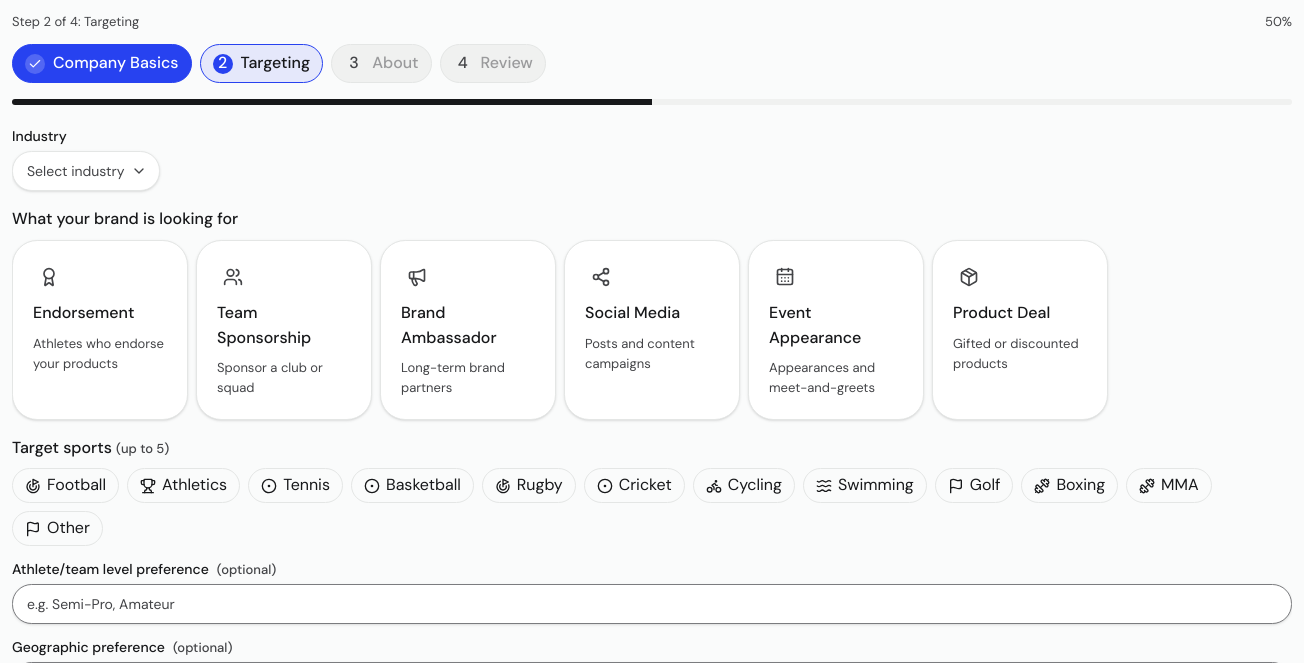
Test case: BrandProfileForm › step 2 limits target sports to 5 and errors on the 6th
This screenshot has width=1304, height=663.
Click the button "Football" at coordinates (66, 486), box [12, 468, 119, 503]
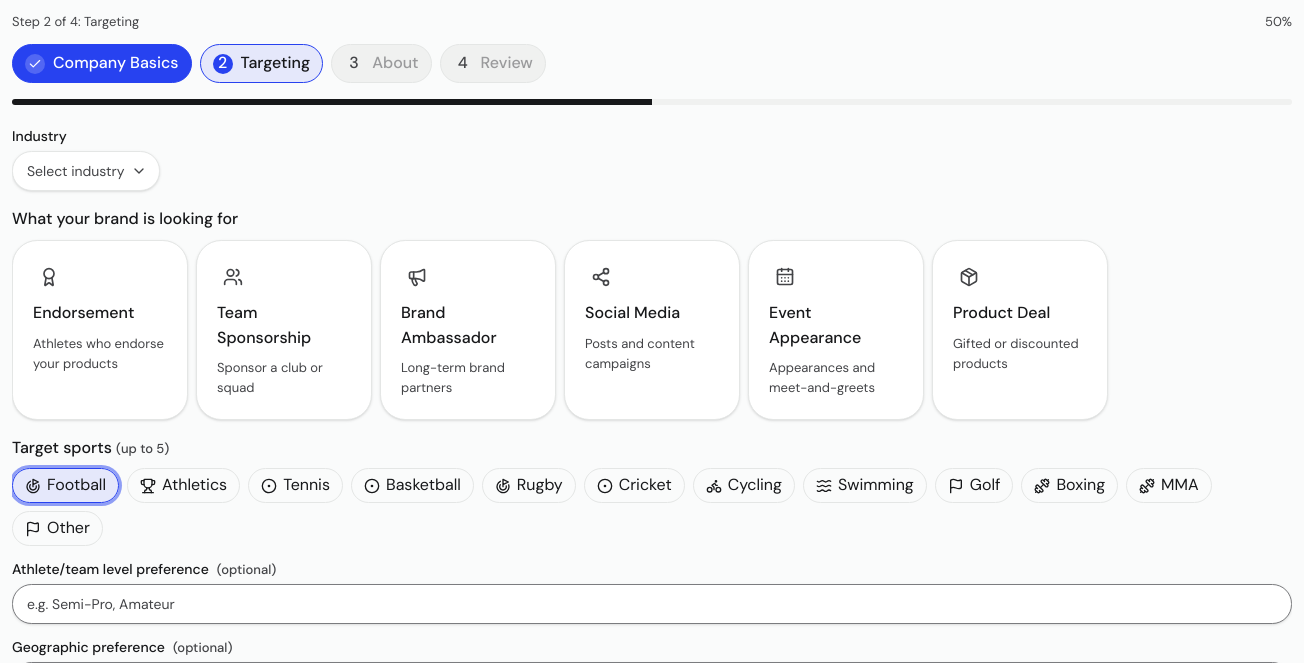
Click the button "Athletics" at coordinates (184, 486), box [127, 468, 240, 503]
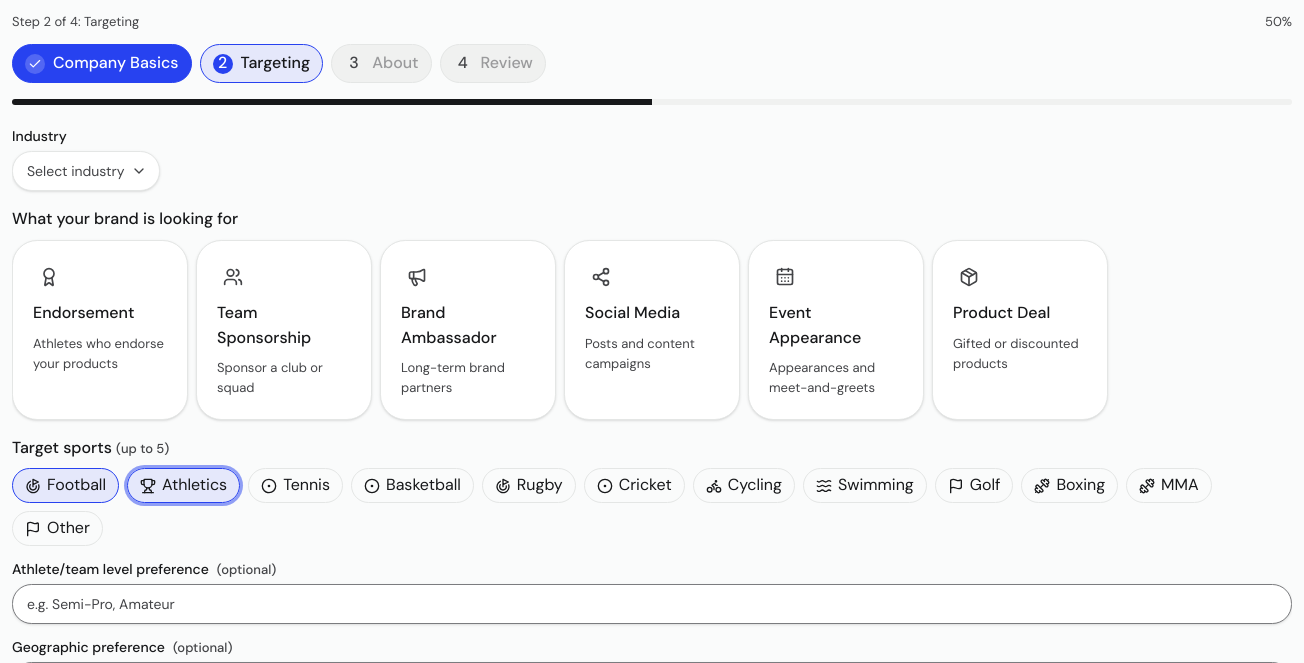
Click the button "Tennis" at coordinates (296, 486), box [248, 468, 343, 503]
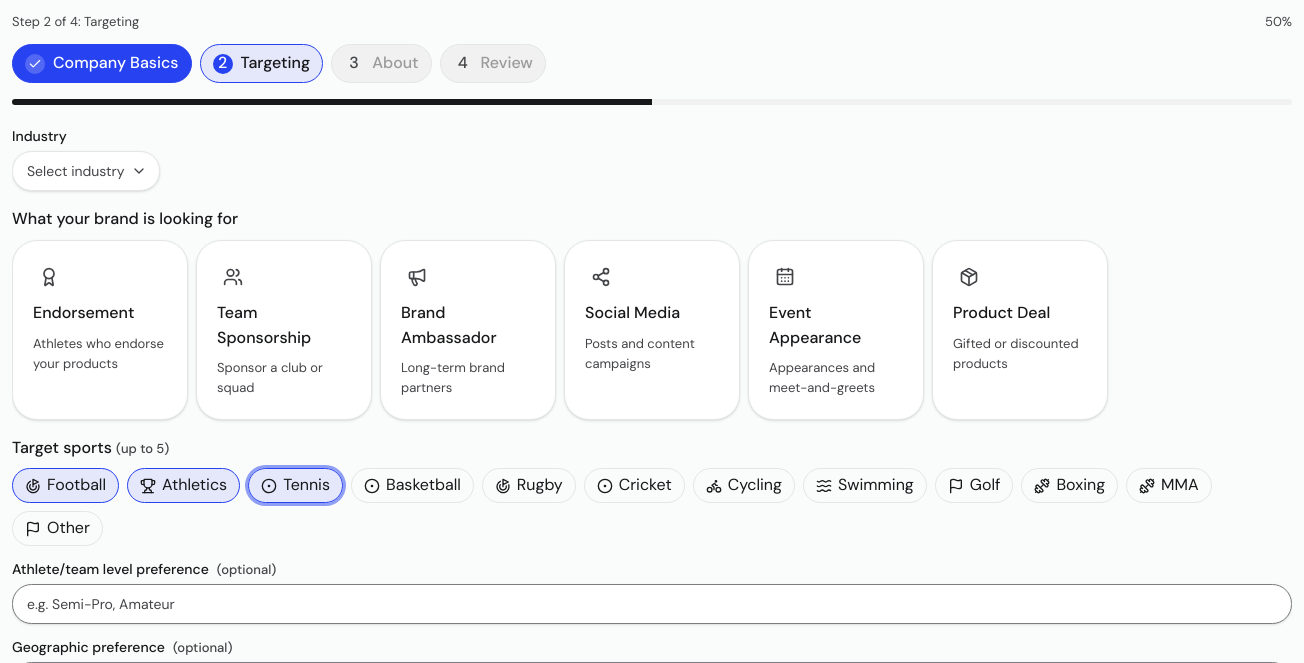
Click the button "Basketball" at coordinates (412, 486), box [351, 468, 474, 503]
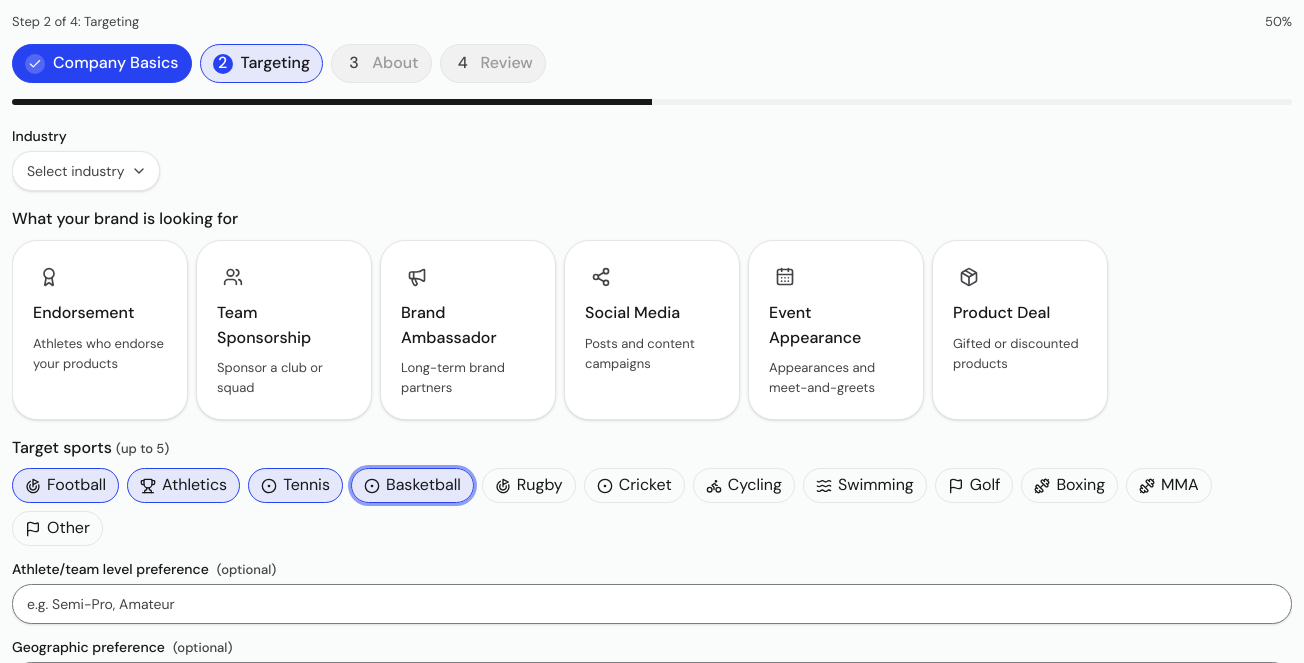
Click the button "Rugby" at coordinates (529, 486), box [482, 468, 576, 503]
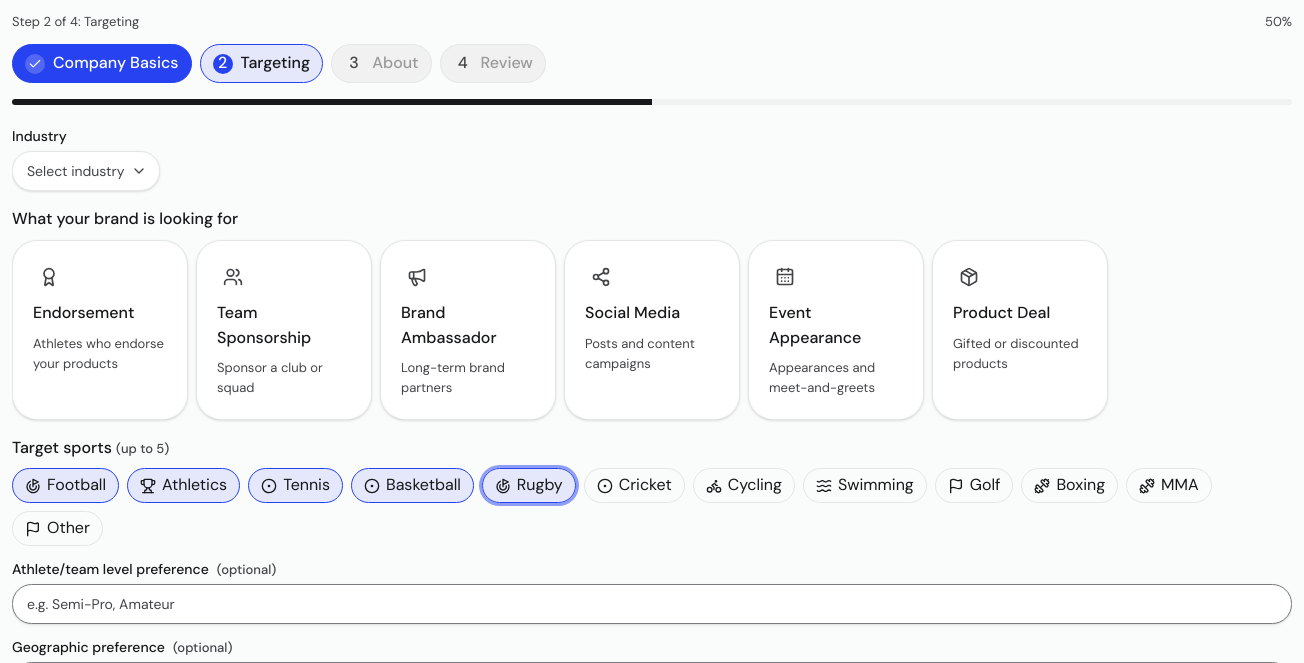
Click the button "Cricket" at coordinates (634, 486), box [584, 468, 685, 503]
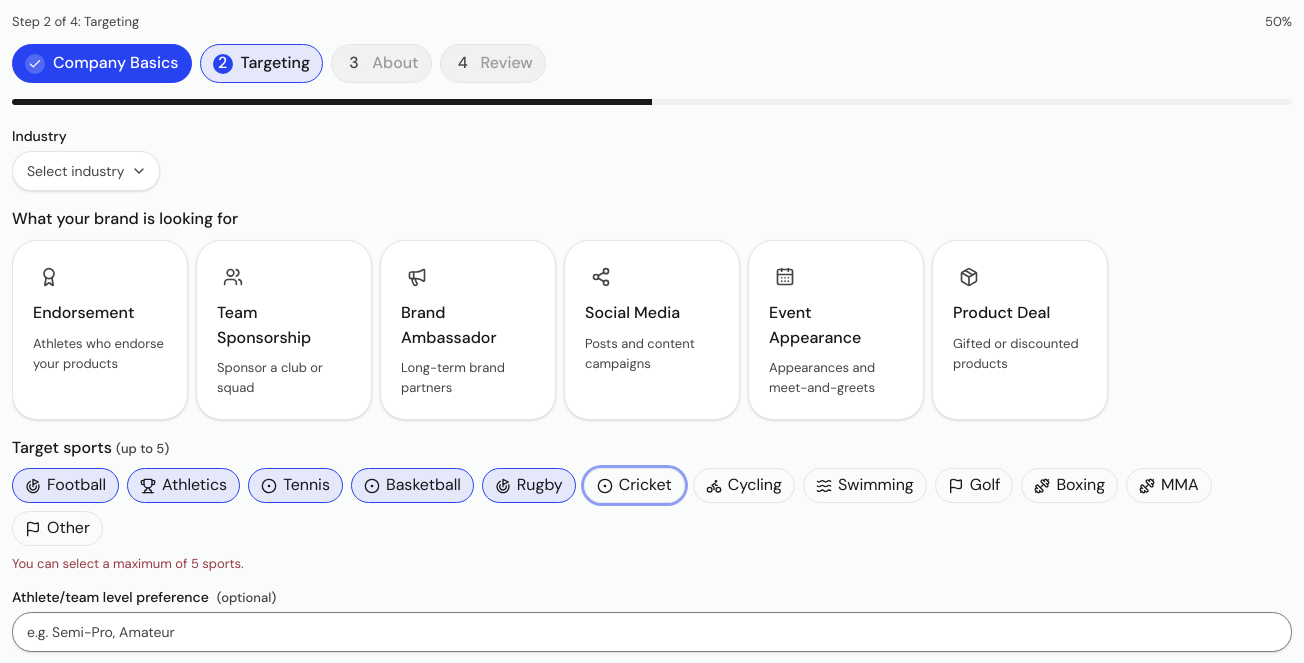
Result: the message shows "maximum of 5 sports" at [12, 555, 244, 572]
